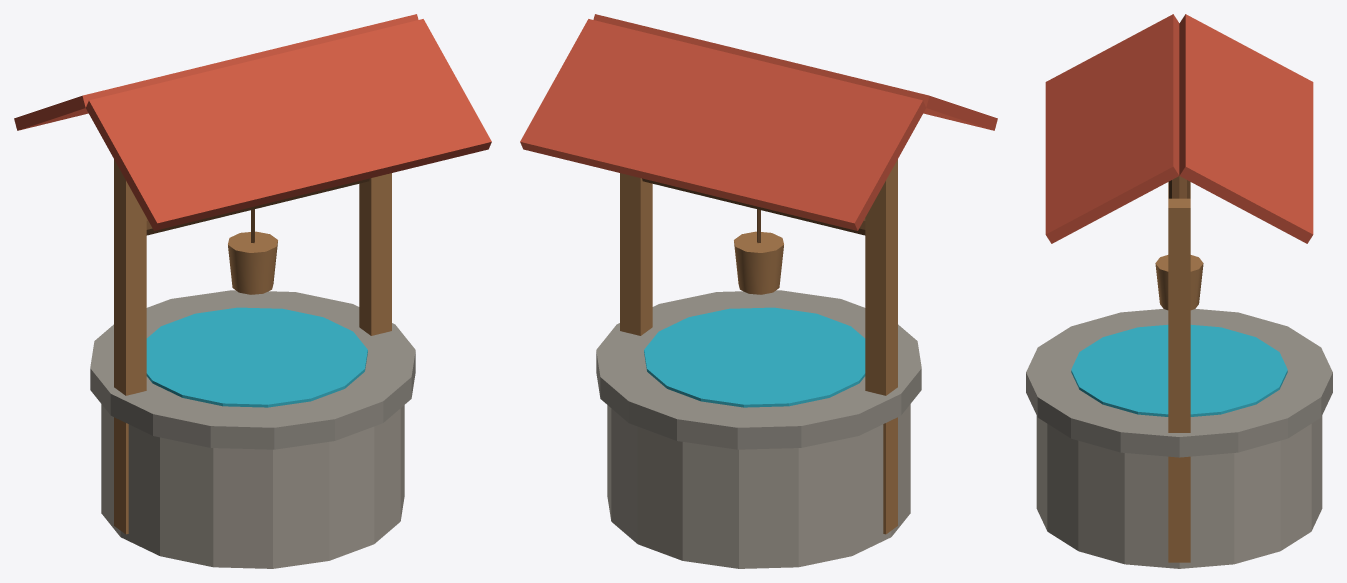
File: prop_well.glb
3 renders of one model, left to right at view 1: azimuth 30°, elevation 25°; view 2: azimuth 150°, elevation 25°; view 3: azimuth 270°, elevation 25°, orthographic. The views are drawn at different scales.
Parts seen in each view (by area): view 1: Prop_Well; view 2: Prop_Well; view 3: Prop_Well.
Boxes of the visible parts, x1,y1,x2,y2 form: Prop_Well: [14, 14, 491, 568]; Prop_Well: [520, 14, 997, 568]; Prop_Well: [1026, 14, 1332, 568].
Bounding box in the file's own units: 2.4 × 3.07 × 2.04.
